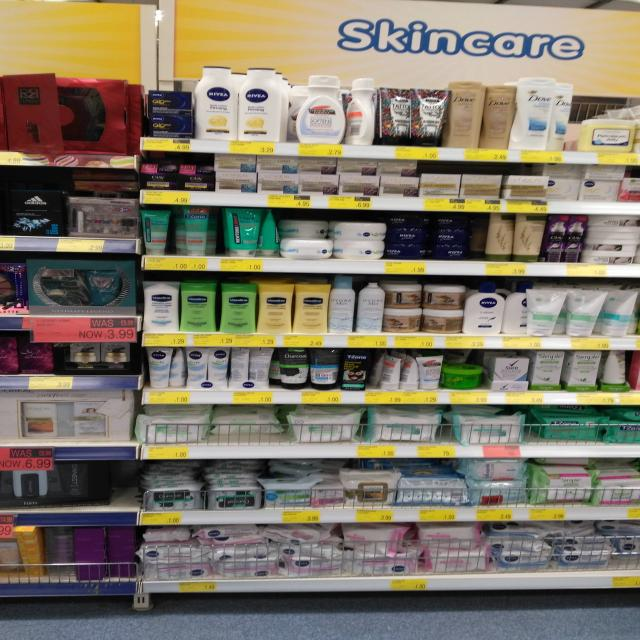unorganised: (545, 76, 575, 153), (212, 406, 285, 437), (347, 77, 377, 147), (485, 520, 548, 545), (486, 210, 514, 264), (548, 518, 603, 545), (263, 524, 333, 545), (254, 210, 282, 258), (283, 220, 327, 240), (533, 456, 598, 469)
